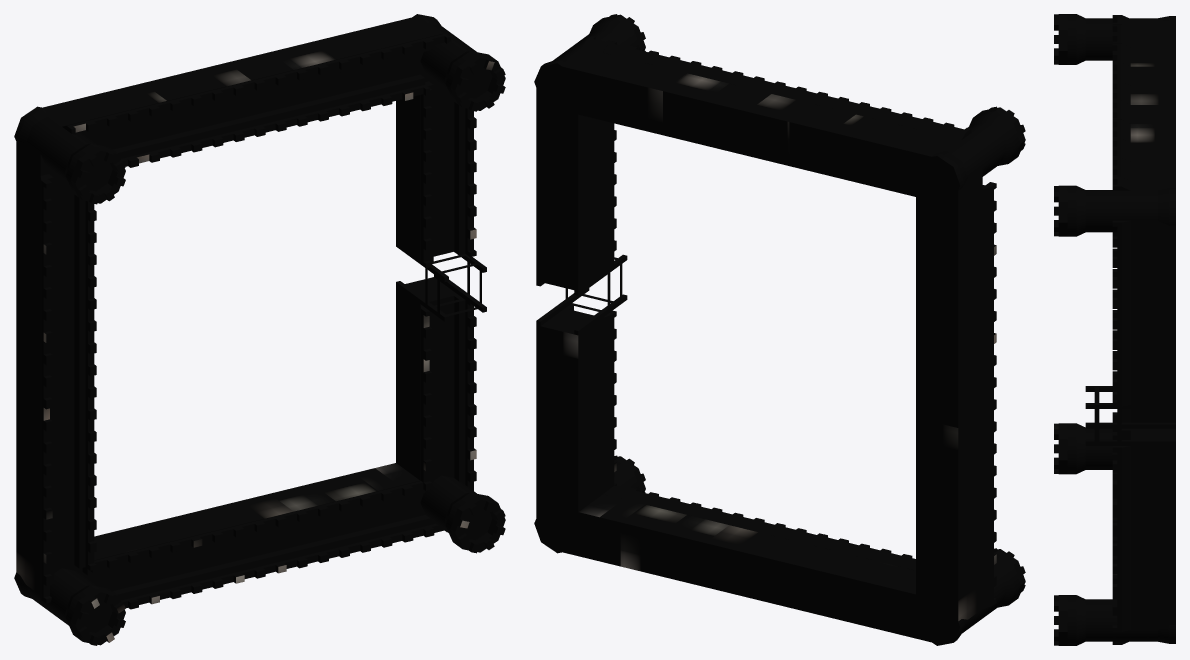
3 views of the same model, side by side, from view 1: azimuth 30°, elevation 25°; view 2: azimuth 150°, elevation 25°; view 3: azimuth 270°, elevation 25° (orthographic). The views are drawn at different scales.
Parts seen in each view (by area): view 1: export_mesh_battlement.051; view 2: export_mesh_battlement.051; view 3: export_mesh_battlement.051.
Boxes of the visible parts, box(x1,y1,x2,y2) form: export_mesh_battlement.051: box(14, 14, 505, 645); export_mesh_battlement.051: box(534, 14, 1025, 645); export_mesh_battlement.051: box(1054, 14, 1175, 645).
Size of the model in its own units: 10.2 by 11.2 by 2.7.
Materials: 1 (1 with a texture image).
